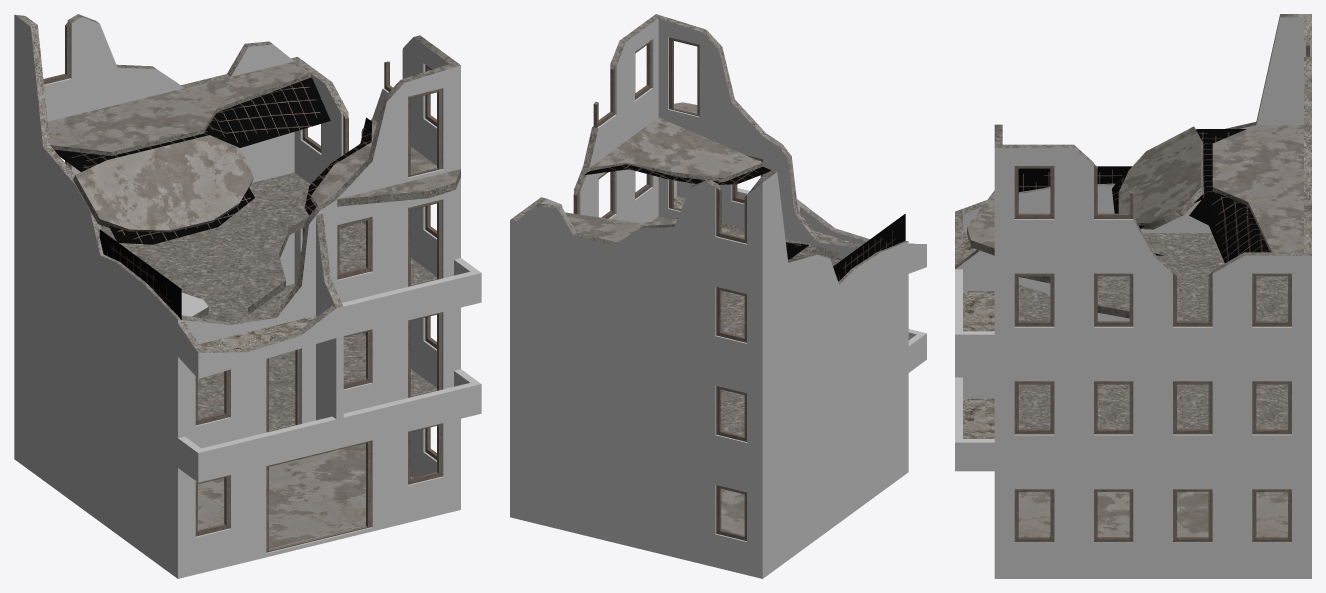
File: Building_E_Destroyed.fbx
3 views of the same model, side by side, from view 1: azimuth 30°, elevation 25°; view 2: azimuth 150°, elevation 25°; view 3: azimuth 270°, elevation 25° (orthographic). The views are drawn at different scales.
Visible parts, largest first — view 1: Walls, Floor_Top, Floors_Center, Broken_Concrete, Rebar (×2), Windows, Floor_Ground, Floors_Balcony; view 2: Walls, Floor_Top, Broken_Concrete, Windows, Rebar (×2), Floors_Center, Floor_Ground; view 3: Walls, Floor_Top, Floors_Center, Windows, Floor_Ground, Broken_Concrete, Rebar, Floors_Balcony.
Boxes of the visible parts, left/top/right/bottom form: Walls: left=14, top=15, right=481, bottom=578; Floor_Top: left=47, top=61, right=460, bottom=230; Floors_Center: left=101, top=172, right=436, bottom=430; Broken_Concrete: left=15, top=14, right=460, bottom=352; Rebar (×2): left=54, top=77, right=372, bottom=319; Windows: left=43, top=21, right=442, bottom=552; Floor_Ground: left=198, top=443, right=412, bottom=548; Floors_Balcony: left=199, top=315, right=317, bottom=349; Walls: left=510, top=18, right=926, bottom=578; Floor_Top: left=565, top=102, right=834, bottom=259; Broken_Concrete: left=510, top=14, right=914, bottom=284; Windows: left=562, top=37, right=762, bottom=540; Rebar (×2): left=584, top=164, right=905, bottom=281; Floors_Center: left=651, top=216, right=839, bottom=436; Floor_Ground: left=721, top=488, right=744, bottom=535; Walls: left=955, top=17, right=1311, bottom=578; Floor_Top: left=967, top=125, right=1303, bottom=252; Floors_Center: left=1018, top=233, right=1287, bottom=429; Windows: left=1014, top=40, right=1309, bottom=542; Floor_Ground: left=1018, top=492, right=1287, bottom=536; Broken_Concrete: left=955, top=14, right=1311, bottom=318; Rebar: left=1018, top=129, right=1269, bottom=262; Floors_Balcony: left=963, top=232, right=994, bottom=438.
Bounding box in the file's own units: 800 × 1200 × 900.
